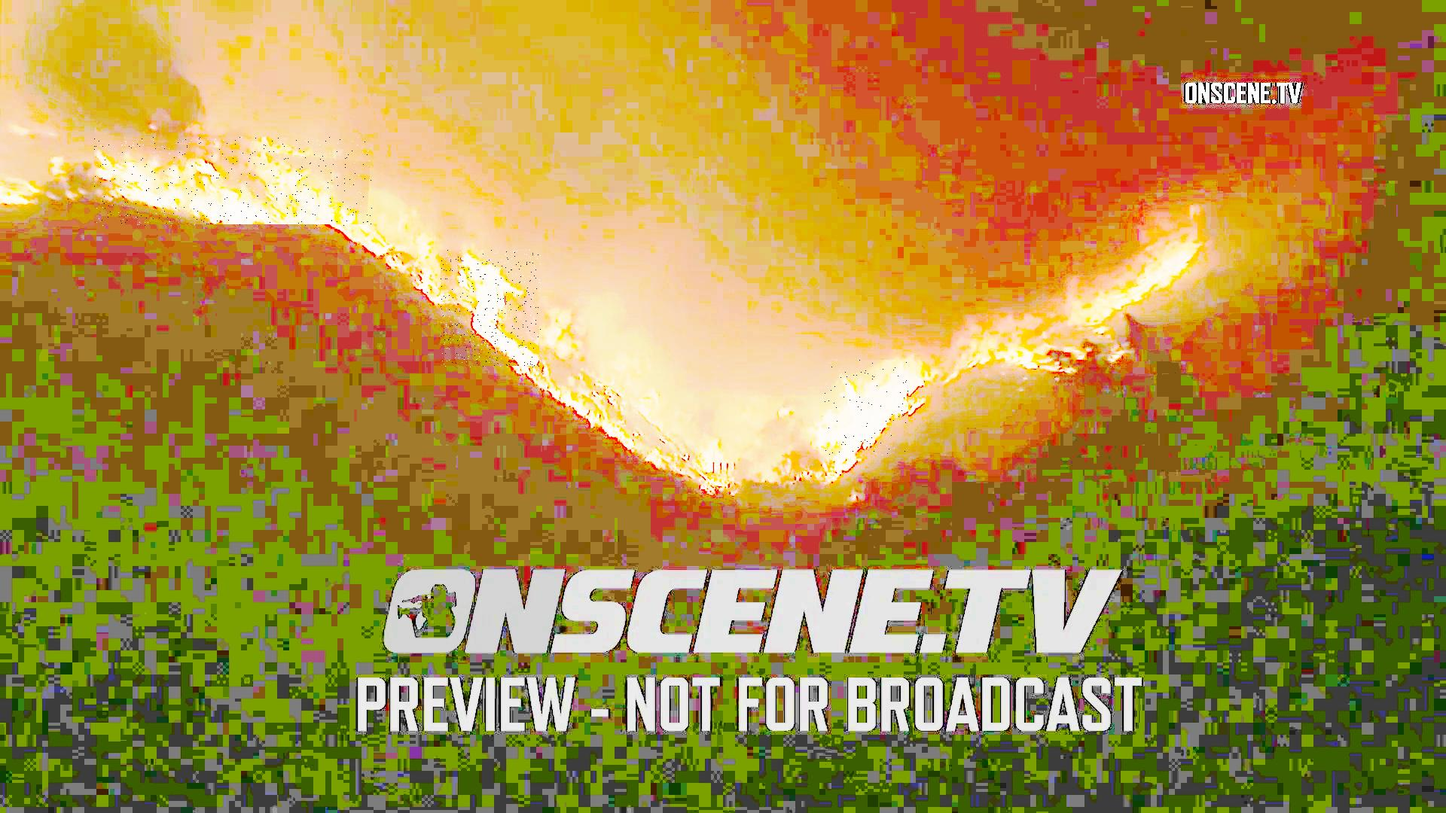fire: (95, 138, 373, 226), (441, 251, 541, 368), (821, 360, 910, 456)
